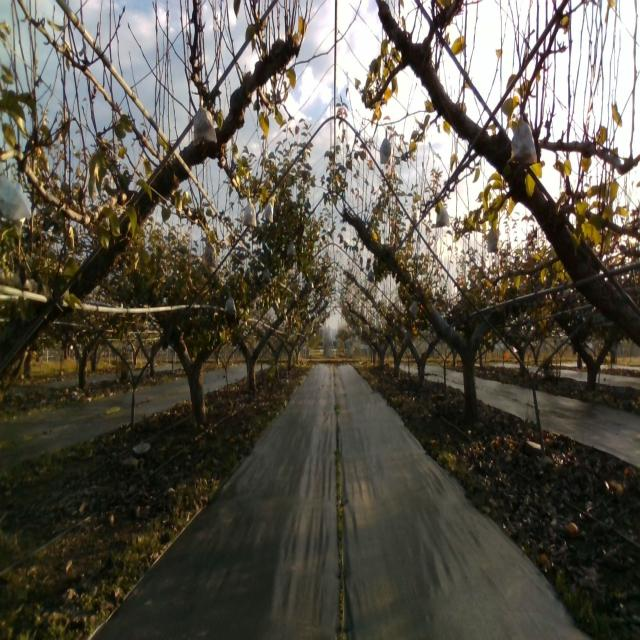pearbags: (0, 162, 32, 222), (506, 114, 538, 165), (193, 96, 217, 146), (243, 198, 258, 230), (204, 238, 218, 269), (380, 129, 392, 164), (435, 201, 450, 227), (487, 222, 499, 254), (224, 290, 237, 318), (262, 200, 274, 222)
